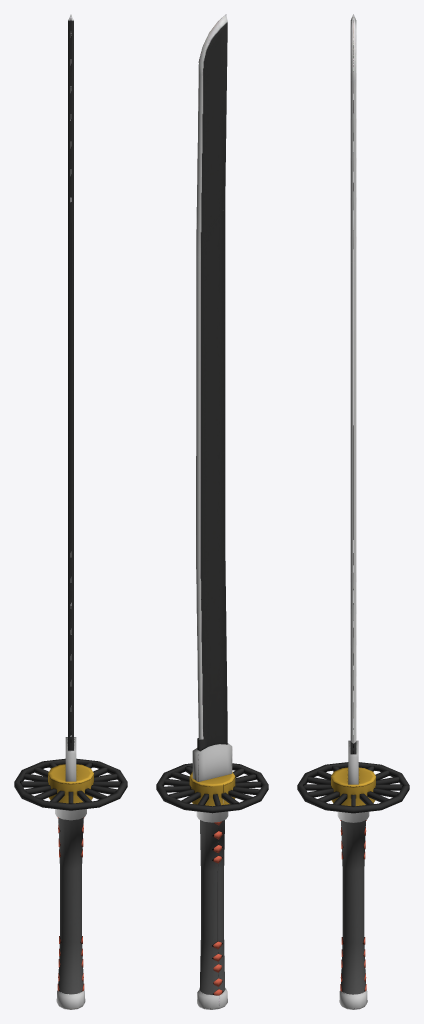
The model's file is Espada_01.fbx.
The picture shows the model from 3 angles, left to right: view 1: azimuth 90°, elevation 25°; view 2: azimuth 210°, elevation 25°; view 3: azimuth 270°, elevation 25°; orthographic projection.
Parts seen in each view (by area): view 1: Espada_01; view 2: Espada_01; view 3: Espada_01.
Part boxes in pixels (x1=…): Espada_01: x1=14, y1=14, x2=127, y2=1009; Espada_01: x1=156, y1=14, x2=268, y2=1009; Espada_01: x1=297, y1=14, x2=409, y2=1009.
Size of the model in its own units: 42.25 by 409 by 42.25.
